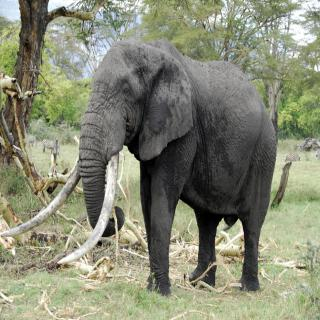Elephant: (12, 35, 289, 298)
